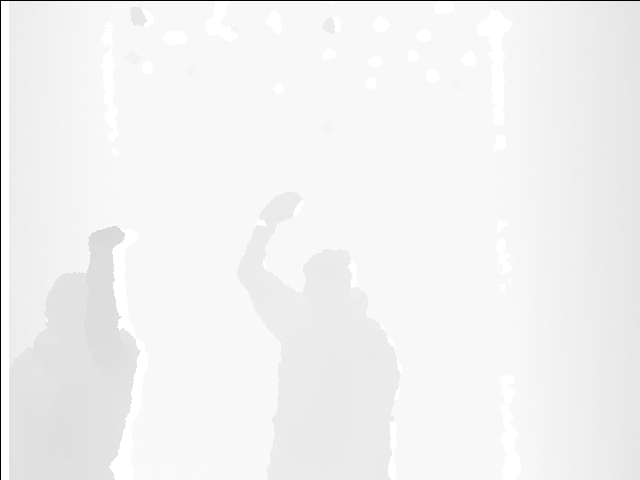hand: (83, 225, 127, 265), (263, 189, 301, 226)
